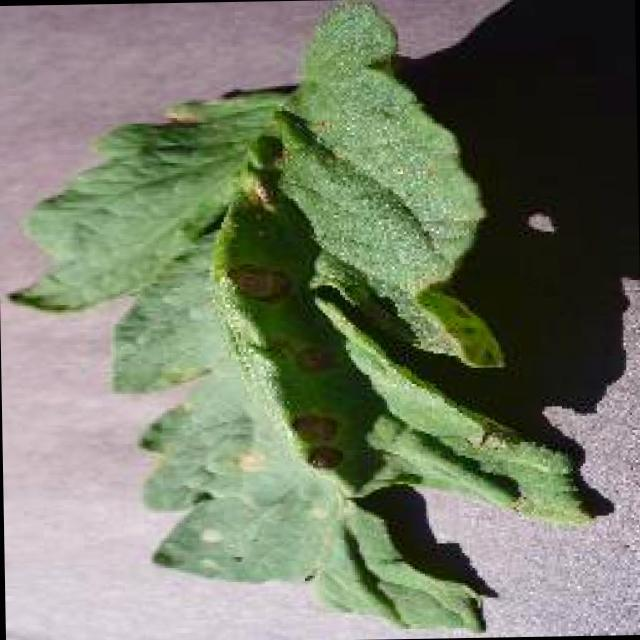Tomato Early blight leaf: (14, 0, 590, 640)
